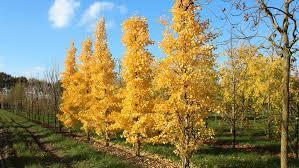tree: (152, 1, 222, 168), (115, 13, 159, 158), (87, 14, 124, 147)
